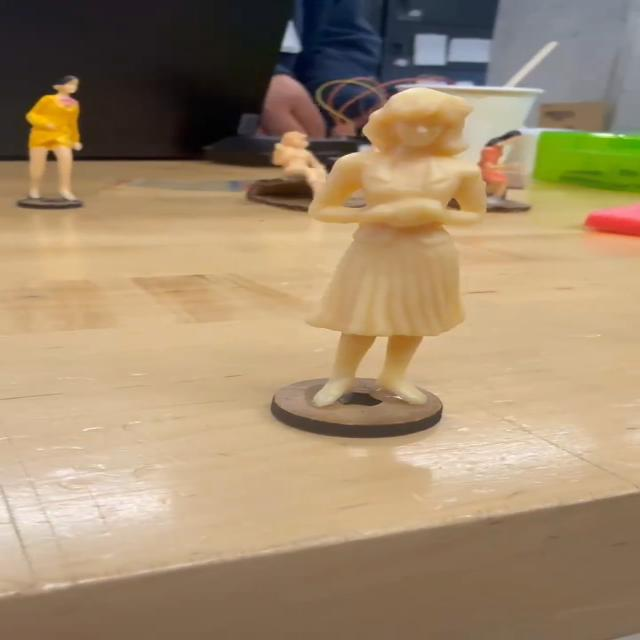Unauthorized: (305, 82, 482, 414)
